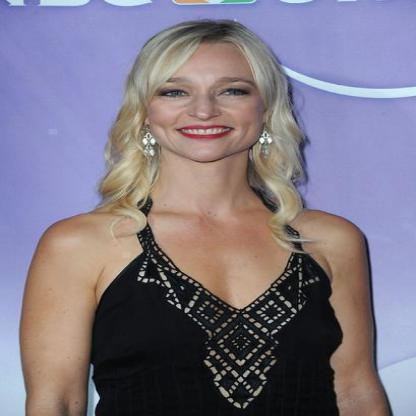long-hair: (88, 164, 318, 211)
